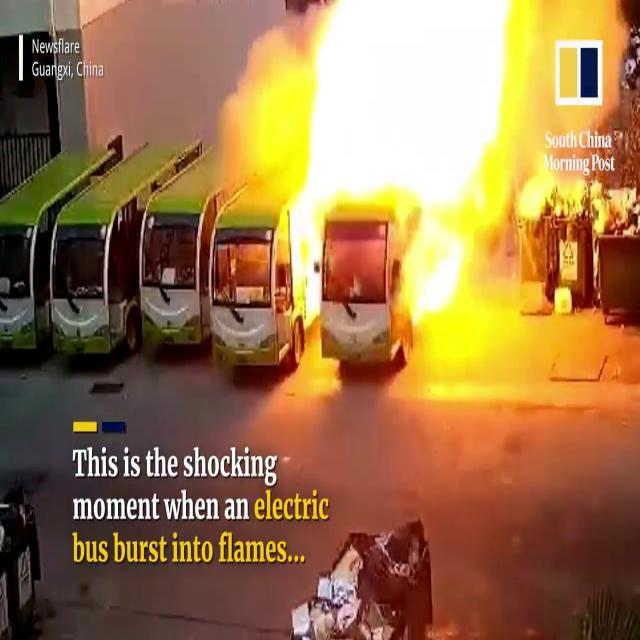Fire: (242, 0, 536, 364)
